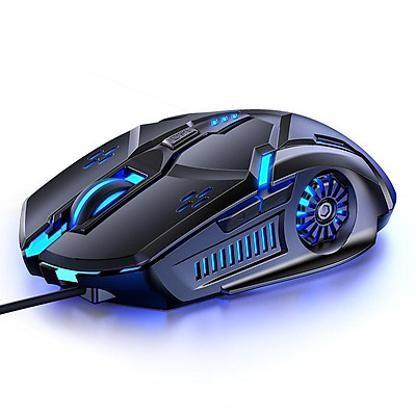not trash: (21, 108, 398, 312)
